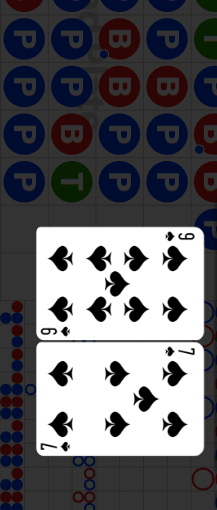7S: (39, 440, 73, 453)
9S: (163, 230, 196, 243)
